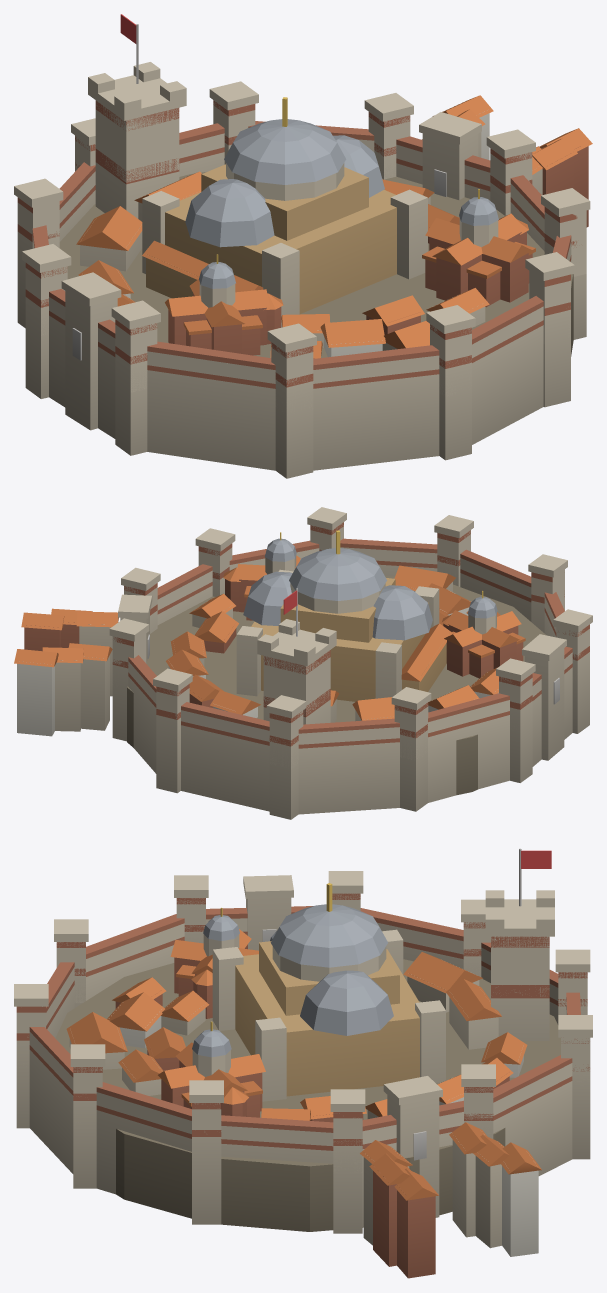
File: city_byz_a.glb
The picture shows the model from 3 angles, top to bottom: view 1: azimuth 30°, elevation 25°; view 2: azimuth 150°, elevation 25°; view 3: azimuth 270°, elevation 25°; orthographic projection. The views are drawn at different scales.
Visible parts, largest first — view 1: city_byz_a, Cube.135, Cube.021, Cube.074, Cube.114, Cube.051, Cube.084; view 2: city_byz_a, Cube.135, Cube.051, Cube.021, Cube.074, Cube.041; view 3: city_byz_a, Cube.135, Cube.031, Cube.021, Cube.041, Cube.084, Cube.051.
Boxes of the visible parts, x1,y1,x2,y2 form: city_byz_a: (14, 14, 592, 478); Cube.135: (96, 101, 179, 182); Cube.021: (369, 112, 410, 179); Cube.074: (130, 323, 157, 392); Cube.114: (567, 210, 586, 276); Cube.051: (33, 201, 59, 247); Cube.084: (271, 343, 312, 411); city_byz_a: (14, 507, 592, 819); Cube.135: (263, 651, 330, 715); Cube.051: (394, 704, 427, 760); Cube.021: (112, 633, 146, 684); Cube.074: (556, 627, 584, 681); Cube.041: (269, 710, 303, 768); city_byz_a: (14, 848, 592, 1278); Cube.135: (491, 936, 549, 996); Cube.031: (561, 1037, 590, 1085); Cube.021: (464, 1087, 493, 1138); Cube.041: (558, 972, 587, 1014); Cube.084: (56, 942, 85, 1002); Cube.051: (463, 922, 490, 976).
Size of the model in its own units: 3.36 by 1.38 by 2.95.
